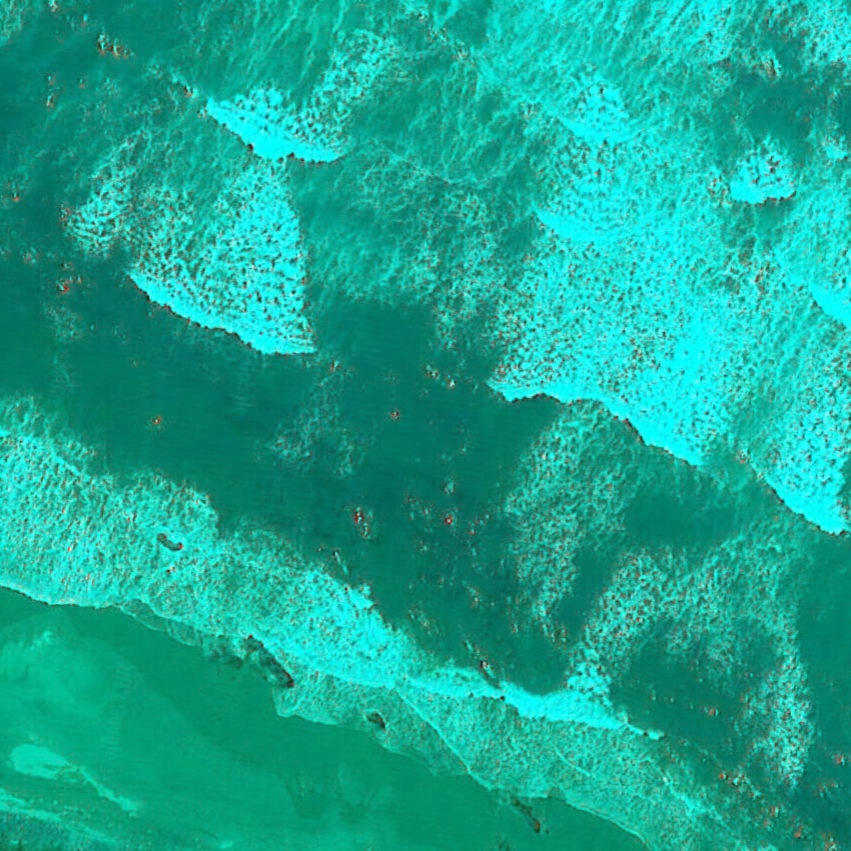rip_current: (244, 128, 569, 673)
